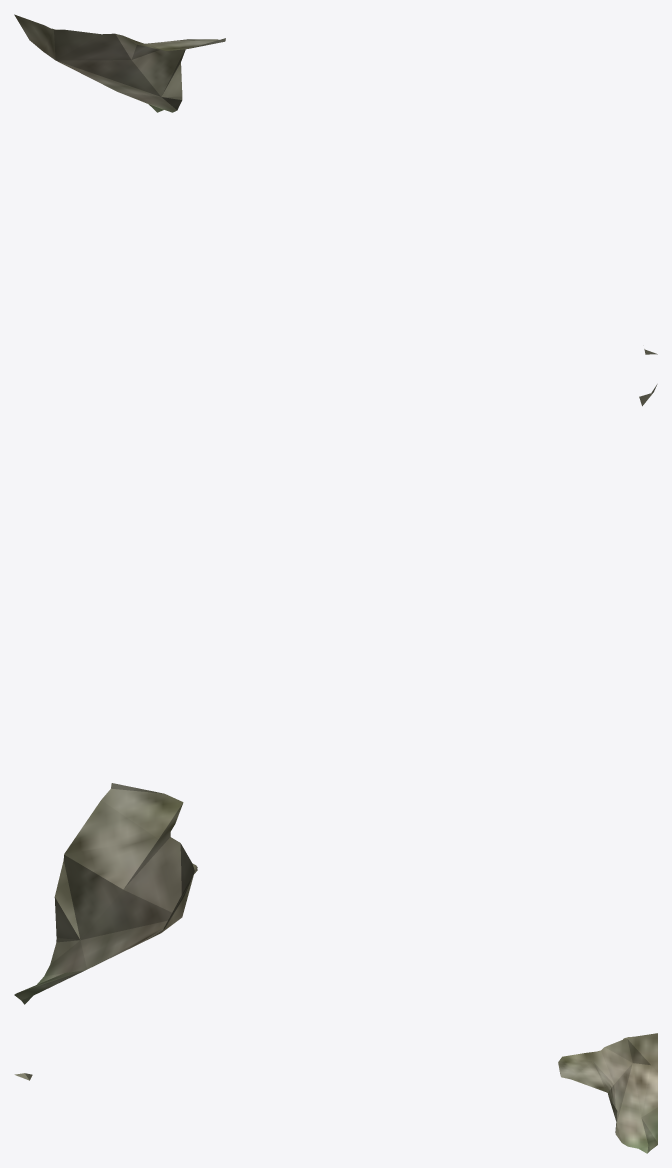
The picture shows the model from 3 angles, top to bottom: view 1: azimuth 30°, elevation 25°; view 2: azimuth 150°, elevation 25°; view 3: azimuth 270°, elevation 25°; orthographic projection. The views are drawn at different scales.
Size of the model in its own units: 0.3114 by 0.2764 by 2.04.
Materials: 1 (1 with a texture image).
